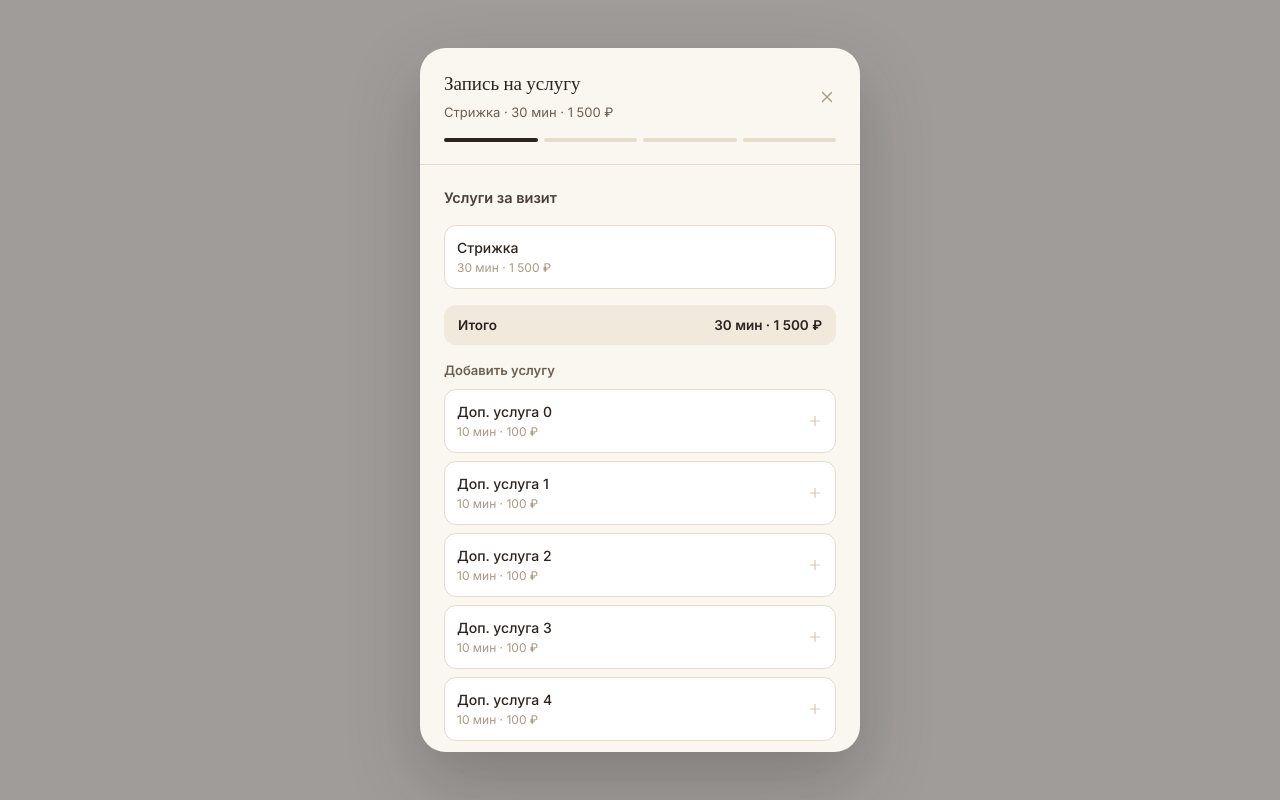
Test: BookingModal — US-67 multiple services per visit › refuses to add a 6th service with an explanatory message
The image size is (1280, 800).
expect the heading "Услуги за визит" is shown: met, box [444, 189, 557, 206]
Click the text "Доп. услуга 0". click: (505, 412)
box: [457, 402, 552, 422]
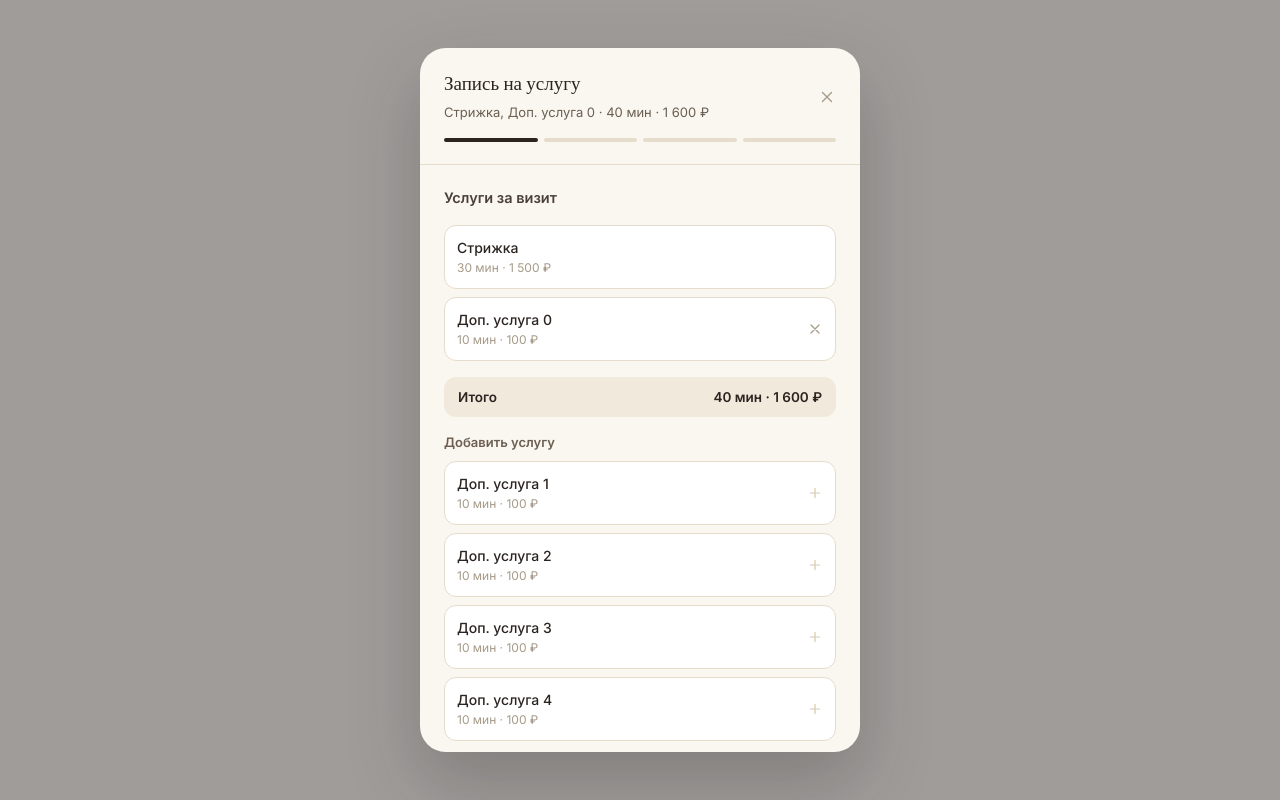
Click the text "Доп. услуга 1". click: (503, 484)
box: [457, 474, 549, 494]
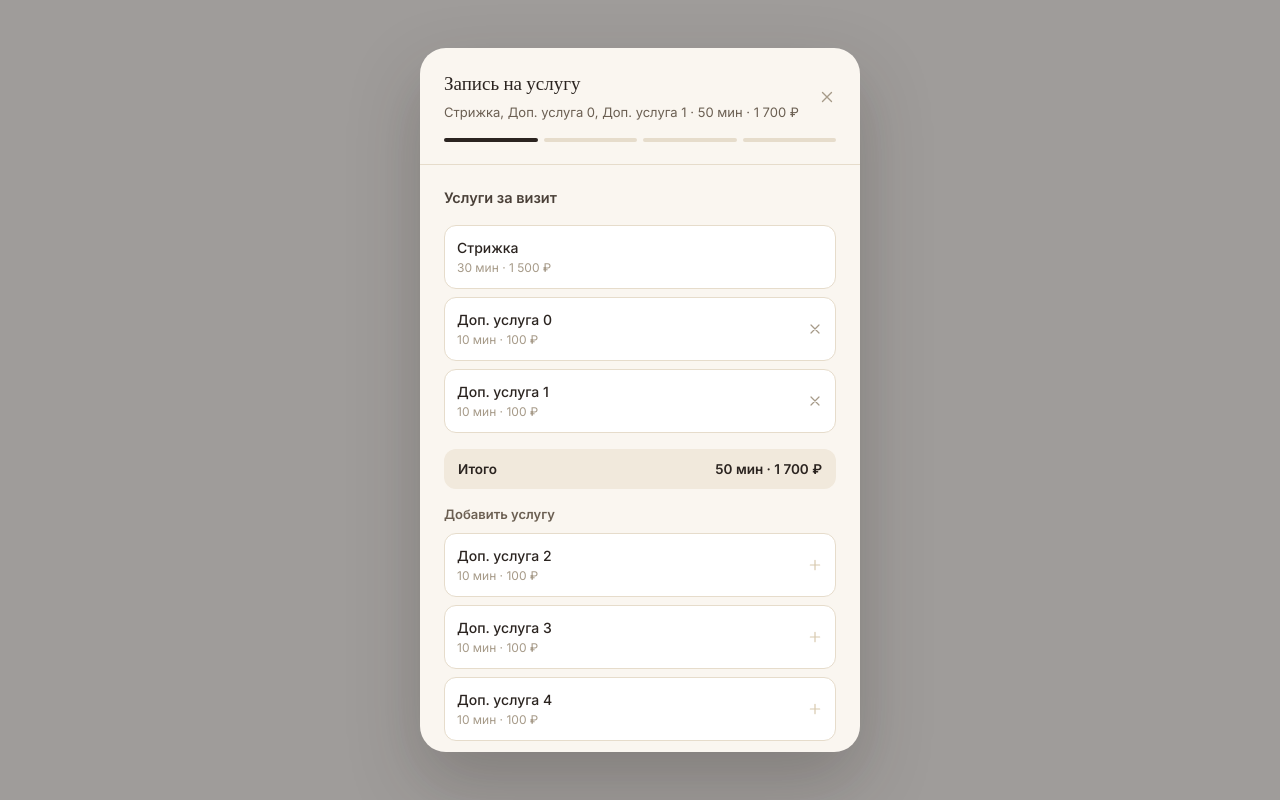
Click the text "Доп. услуга 2". click: (504, 556)
box: [457, 546, 552, 566]
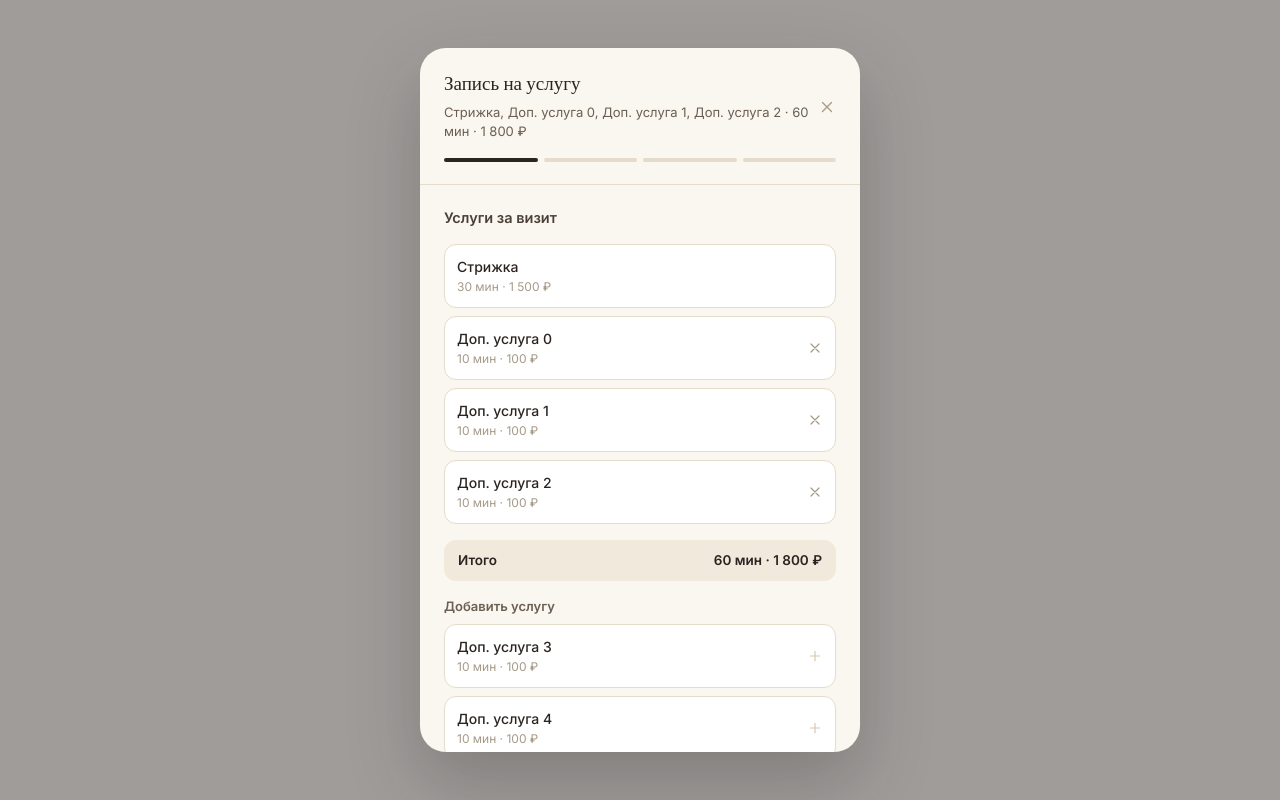
Click the text "Доп. услуга 3". click: (504, 647)
box: [457, 637, 552, 657]
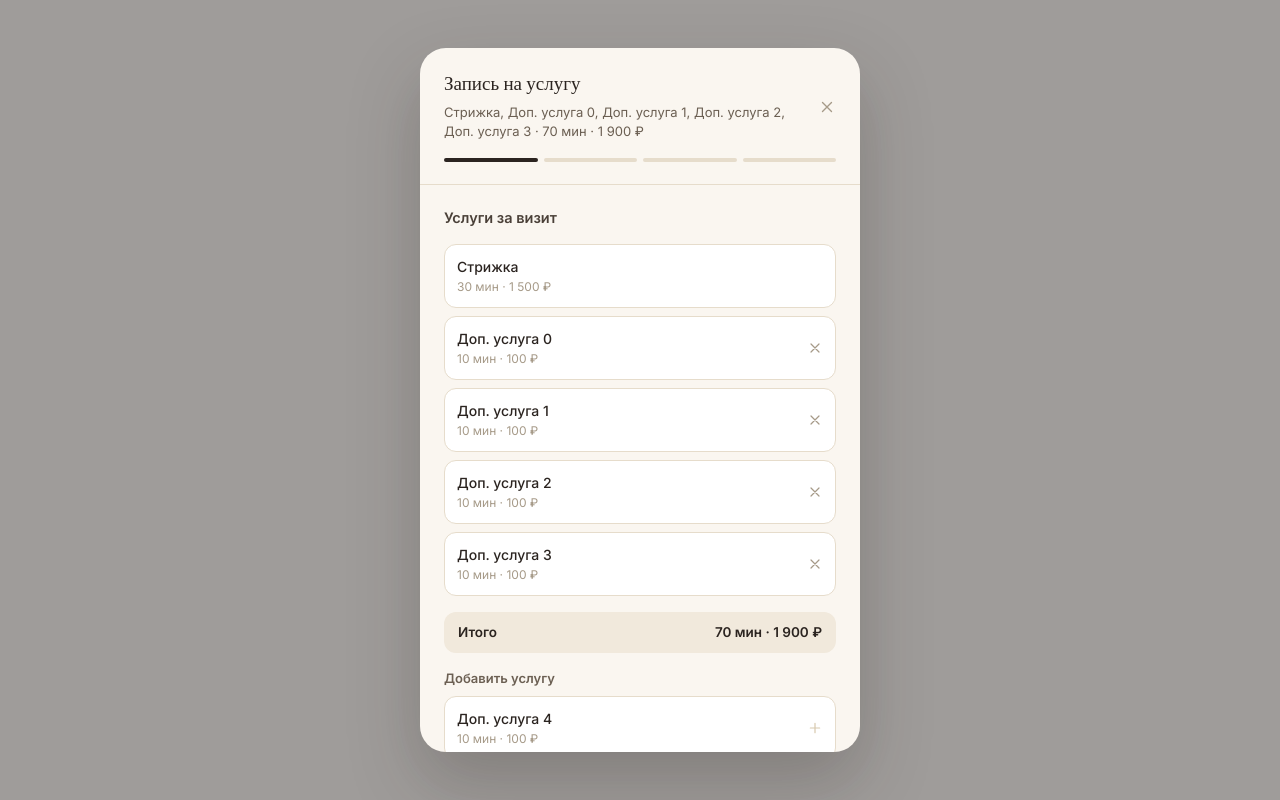
Click the text "Доп. услуга 4". click: (505, 719)
box: [457, 709, 552, 729]
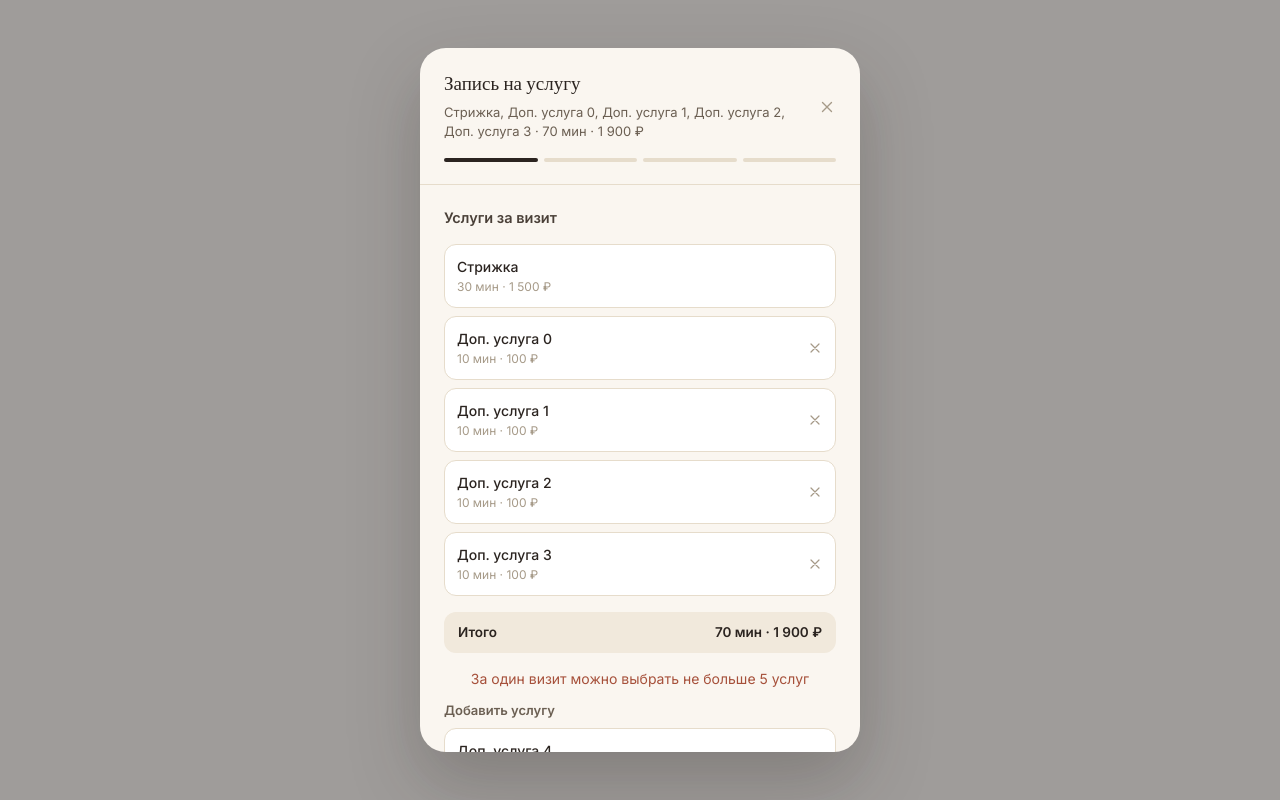
expect the text "За один визит можно выбрать не больше 5 услуг" is shown: met, box [444, 668, 836, 688]
